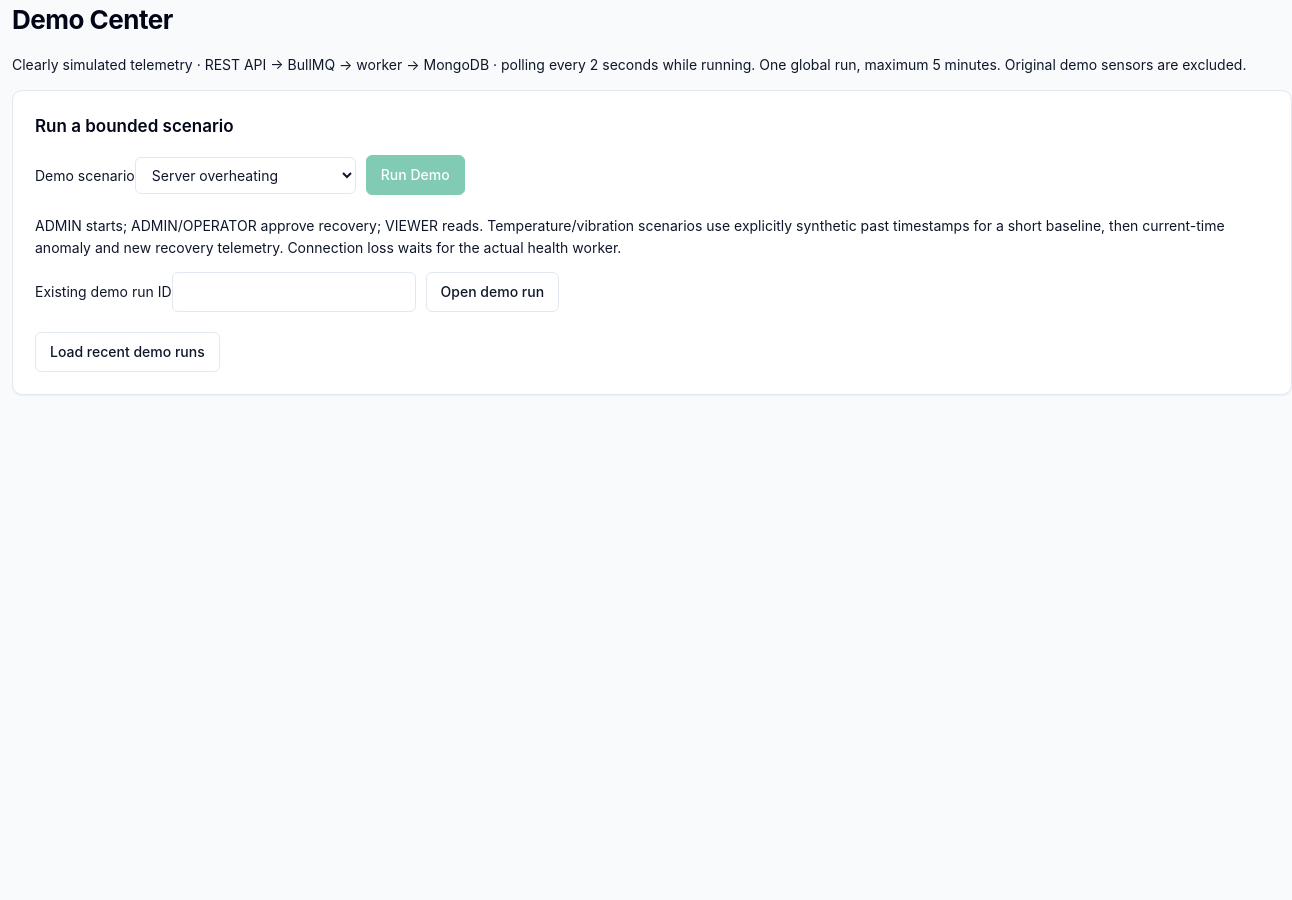
incident intelligence and simulation UI › recent demo history is bounded/read-only and can reopen an honestly failed run
Step 1. Click the button "Load recent demo runs" → (127, 352), box left=35, top=332, right=220, bottom=372
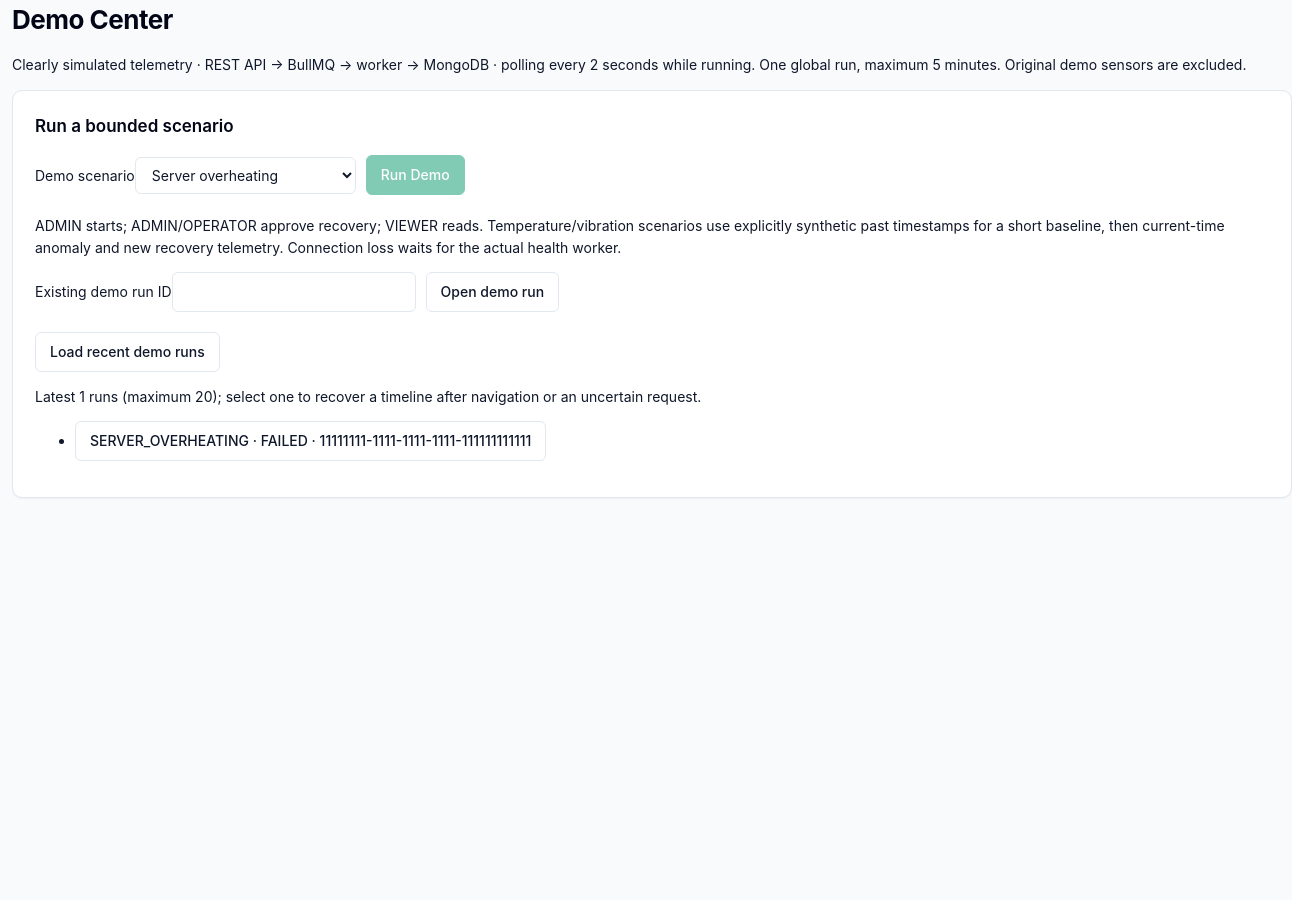
Result: the button "SERVER_OVERHEATING · FAILED" is shown
Step 2. Click the button "SERVER_OVERHEATING · FAILED" → (311, 441), box left=75, top=422, right=546, bottom=461
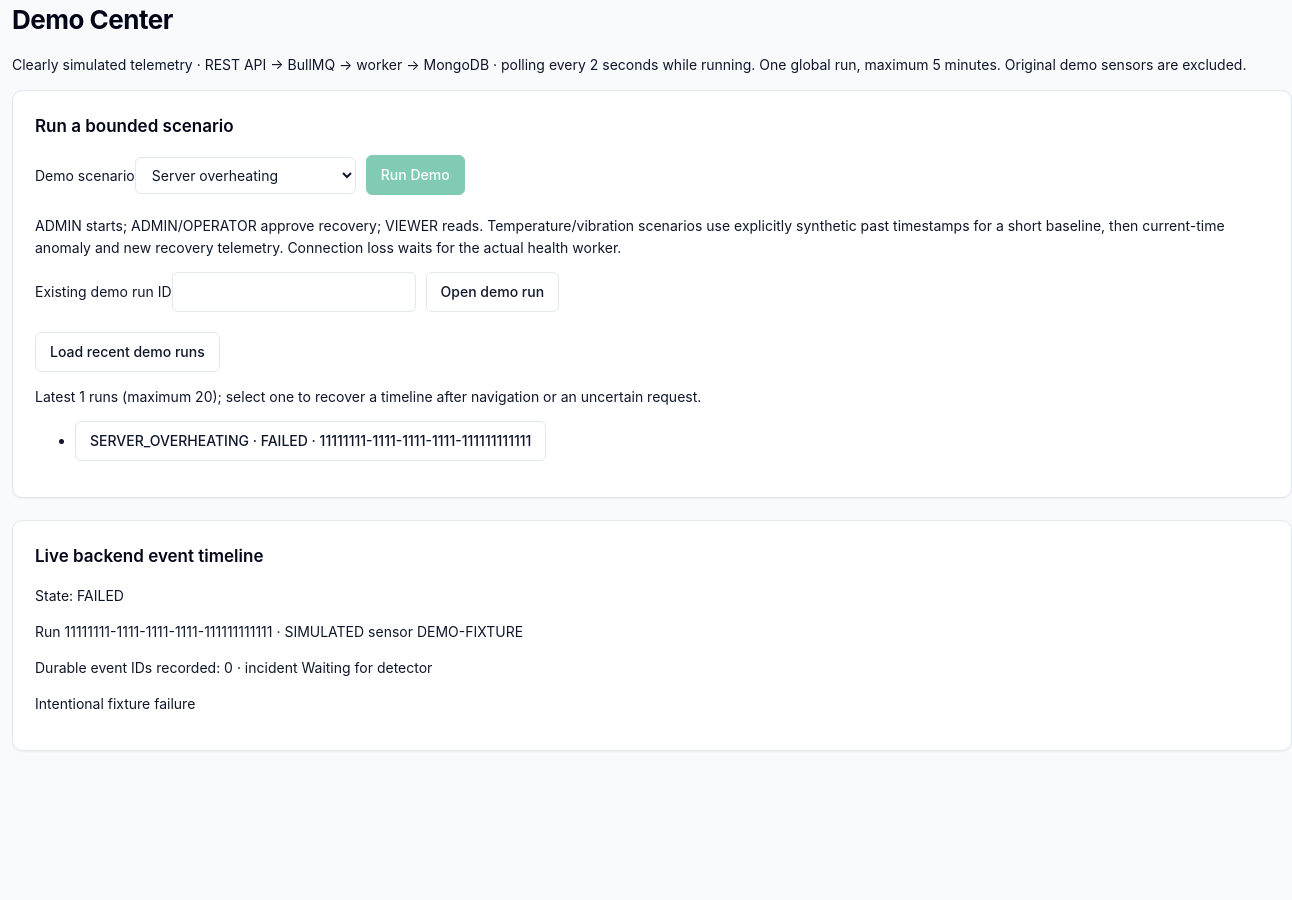
Result: the text "State: FAILED" is shown at left=35, top=588, right=124, bottom=604
Result: the text "Intentional fixture failure" is shown at left=35, top=694, right=195, bottom=712
